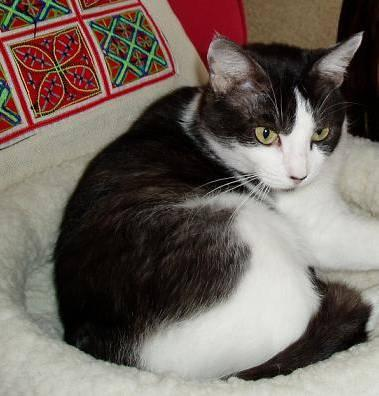cat: (54, 32, 378, 379)
